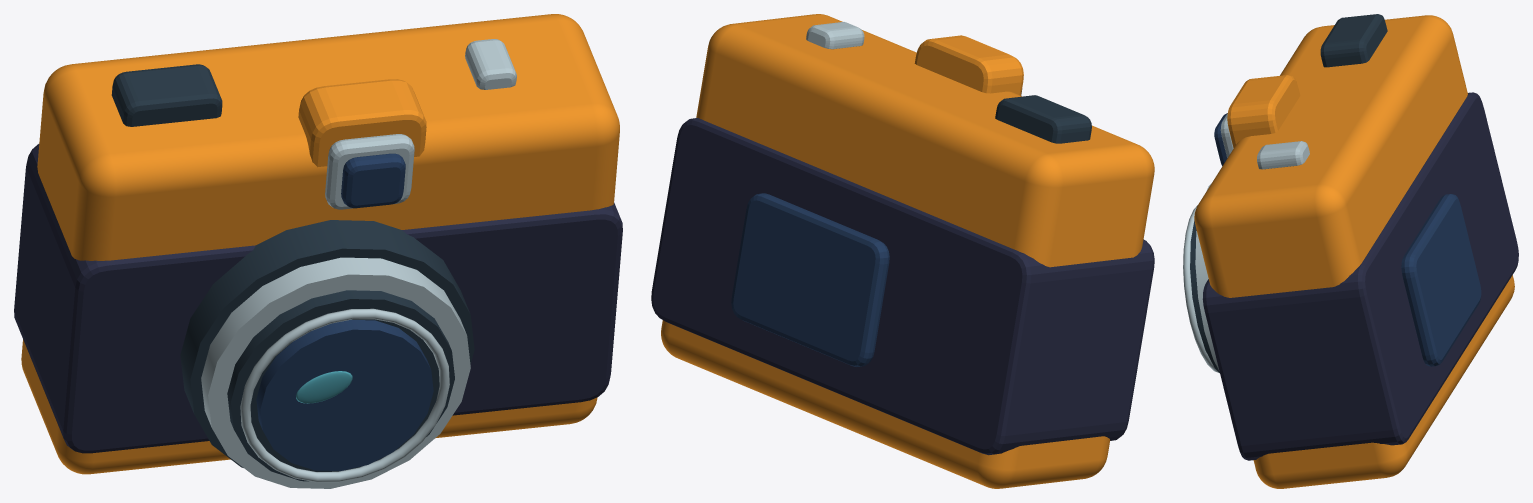
The model's file is camera.glb.
3 renders of one model, left to right at view 1: azimuth 30°, elevation 25°; view 2: azimuth 150°, elevation 25°; view 3: azimuth 270°, elevation 25°, orthographic. The views are drawn at different scales.
Visible parts, largest first — view 1: camera; view 2: camera; view 3: camera.
Part boxes in pixels (left/top/right/bottom): camera: left=14, top=14, right=622, bottom=488; camera: left=651, top=14, right=1154, bottom=488; camera: left=1183, top=14, right=1518, bottom=488.
Bounding box in the file's own units: 1.04 × 0.7496 × 0.7089.
